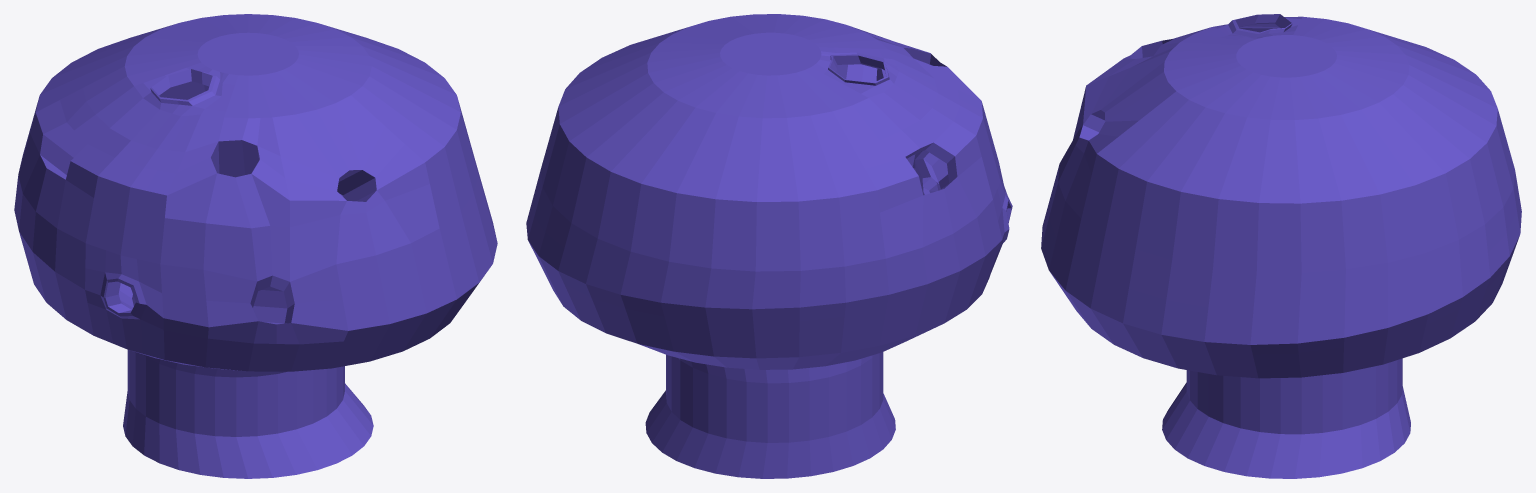
The model's file is SubShroomGfx.fbx.
3 renders of one model, left to right at view 1: azimuth 30°, elevation 25°; view 2: azimuth 150°, elevation 25°; view 3: azimuth 270°, elevation 25°, orthographic.
Parts seen in each view (by area): view 1: Circle; view 2: Circle; view 3: Circle.
Boxes of the visible parts, x1,y1,x2,y2 form: Circle: (14,14,497,478); Circle: (526,14,1012,478); Circle: (1041,14,1521,478).
Size of the model in its own units: 1.4 by 1.2 by 1.4.
